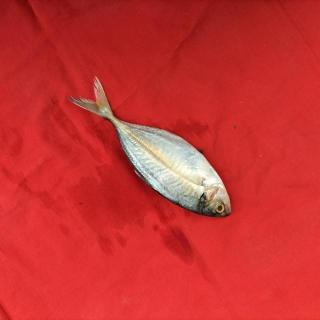Ikan: (77, 76, 243, 230)
